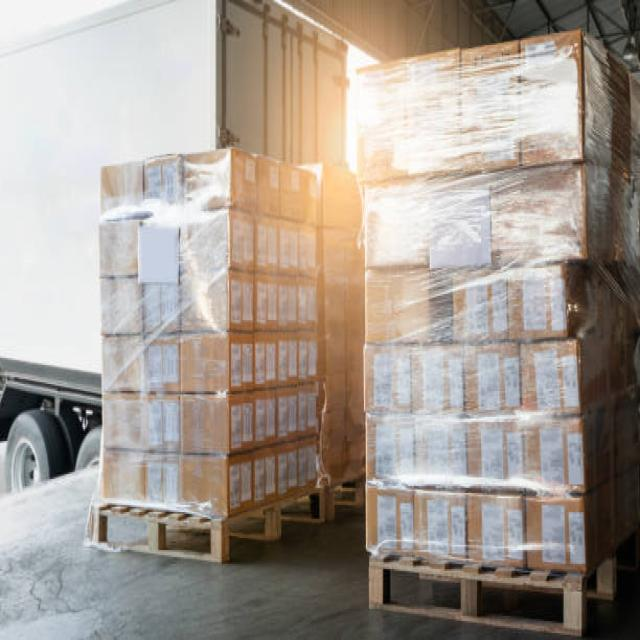Wooden-Pallets: (89, 484, 331, 571), (368, 556, 586, 631)
